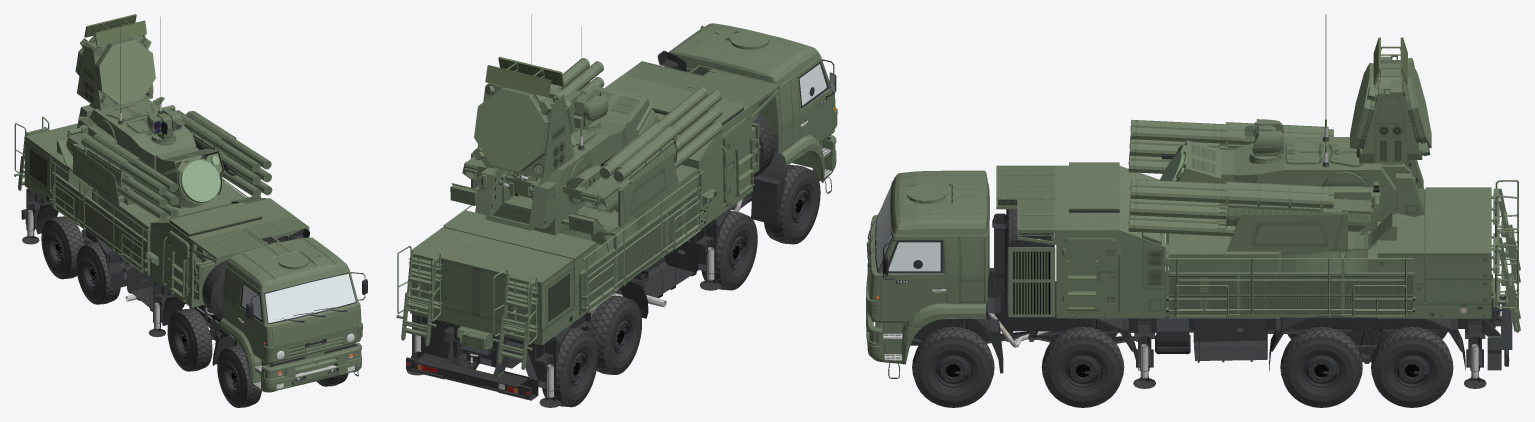
Rendered from 96k6_pantsir-s2.glb.
3 views of the same model, side by side, from view 1: azimuth 30°, elevation 25°; view 2: azimuth 150°, elevation 25°; view 3: azimuth 270°, elevation 25° (orthographic). The views are drawn at different scales.
Visible parts, largest first — view 1: [Imported] $body, [Imported] $weapon0, [Imported] Missile, [Imported] $wheel3, [Imported] $wheel5, [Imported] $wheel1, [Imported] $wheel4, [Imported] $canopy1, [Imported] $canopy4, [Imported] $weapon0_0, [Imported] $weapon0_1, [Imported] $hatch0 (+1 smaller); view 2: [Imported] $body, [Imported] $weapon0, [Imported] Missile, [Imported] $wheel4, [Imported] $wheel5, [Imported] $wheel1, [Imported] $wheel3, [Imported] $canopy1, [Imported] $canopy4, [Imported] $weapon0_0, [Imported] $hatch0, [Imported] $weapon0_1 (+1 smaller); view 3: [Imported] $body, [Imported] $weapon0, [Imported] Missile, [Imported] $wheel5, [Imported] $wheel4, [Imported] $wheel0, [Imported] $wheel2, [Imported] $canopy0, [Imported] $canopy3, [Imported] $weapon0_0, [Imported] $weapon0_1, [Imported] $hatch0 (+1 smaller).
Boxes of the visible parts, x1,y1,x2,y2 form: [Imported] $body: (14, 116, 362, 400); [Imported] $weapon0: (56, 14, 224, 208); [Imported] Missile: (66, 110, 272, 220); [Imported] $wheel3: (167, 308, 212, 371); [Imported] $wheel5: (41, 216, 84, 279); [Imported] $wheel1: (217, 345, 261, 407); [Imported] $wheel4: (76, 242, 120, 304); [Imported] $canopy1: (238, 280, 263, 361); [Imported] $canopy4: (166, 231, 189, 298); [Imported] $weapon0_0: (67, 97, 260, 204); [Imported] $weapon0_1: (147, 109, 184, 134); [Imported] $hatch0: (22, 210, 165, 337); [Imported] $body: (396, 23, 837, 400); [Imported] $weapon0: (450, 14, 678, 235); [Imported] Missile: (462, 58, 722, 212); [Imported] $wheel4: (587, 295, 641, 374); [Imported] $wheel5: (449, 328, 598, 407); [Imported] $wheel1: (764, 165, 820, 244); [Imported] $wheel3: (701, 211, 757, 290); [Imported] $canopy1: (797, 59, 836, 143); [Imported] $canopy4: (722, 119, 754, 203); [Imported] $weapon0_0: (464, 77, 616, 202); [Imported] $hatch0: (406, 247, 721, 407); [Imported] $weapon0_1: (566, 89, 608, 121); [Imported] $body: (866, 162, 1520, 378); [Imported] $weapon0: (1159, 14, 1431, 251); [Imported] Missile: (1128, 119, 1372, 236); [Imported] $wheel5: (1371, 326, 1453, 407); [Imported] $wheel4: (1280, 326, 1362, 407); [Imported] $wheel0: (912, 326, 994, 407); [Imported] $wheel2: (1041, 327, 1124, 407); [Imported] $canopy0: (881, 239, 946, 323); [Imported] $canopy3: (1063, 239, 1116, 311); [Imported] $weapon0_0: (1129, 143, 1380, 212); [Imported] $weapon0_1: (1240, 119, 1283, 153); [Imported] $hatch0: (1133, 344, 1486, 388).
Size of the model in its own units: 2.99 by 6.38 by 10.81.
Materials: 1 (1 with a texture image).
